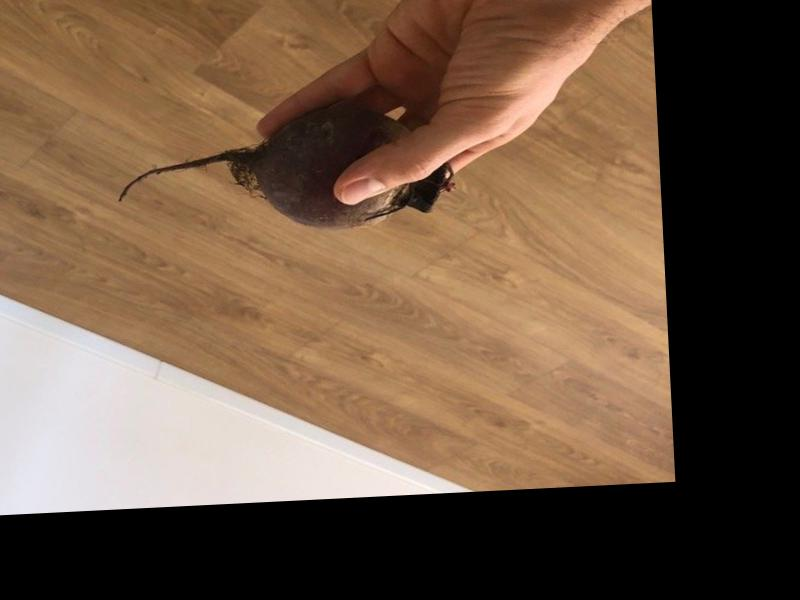Beet: (113, 102, 455, 238)
